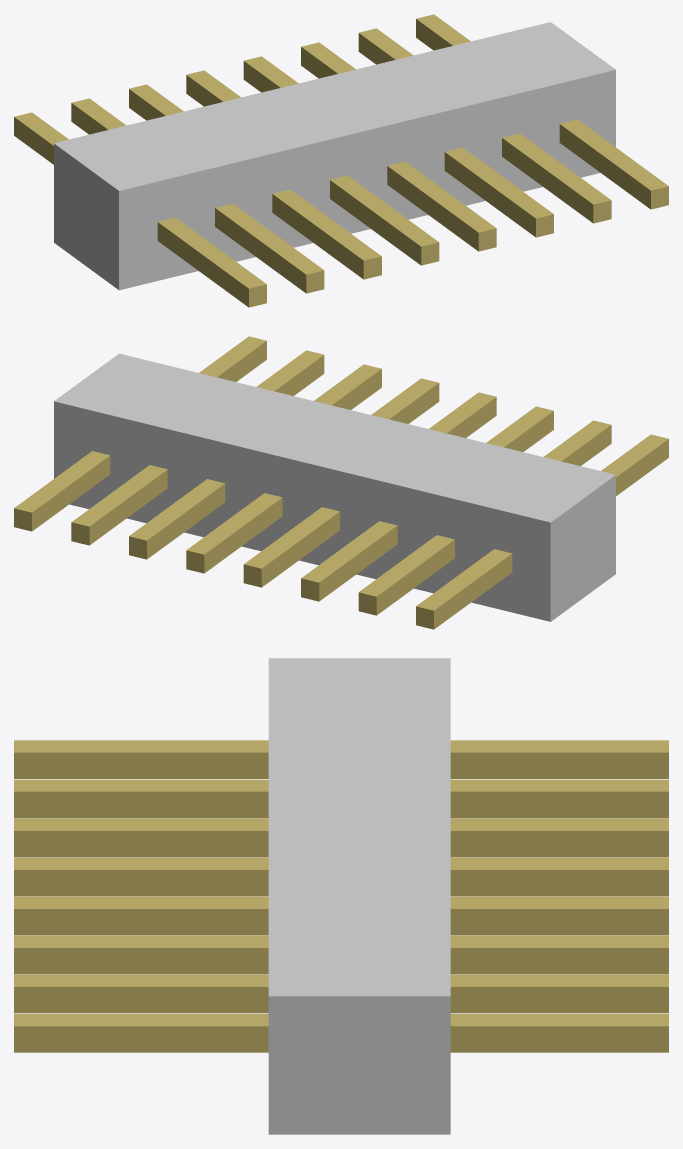
The model's file is pin_header_127_8pin.glb.
3 renders of one model, top to bottom at view 1: azimuth 30°, elevation 25°; view 2: azimuth 150°, elevation 25°; view 3: azimuth 270°, elevation 25°, orthographic. The views are drawn at different scales.
Parts seen in each view (by area): view 1: housing, pins; view 2: housing, pins; view 3: pins, housing.
Part boxes in pixels (bbox=[...]): housing: bbox=[54, 22, 615, 290]; pins: bbox=[14, 14, 668, 307]; housing: bbox=[54, 353, 615, 621]; pins: bbox=[14, 336, 668, 629]; pins: bbox=[14, 740, 668, 1052]; housing: bbox=[268, 658, 450, 1134].
Size of the model in its own units: 10.99 by 2.1 by 9.
